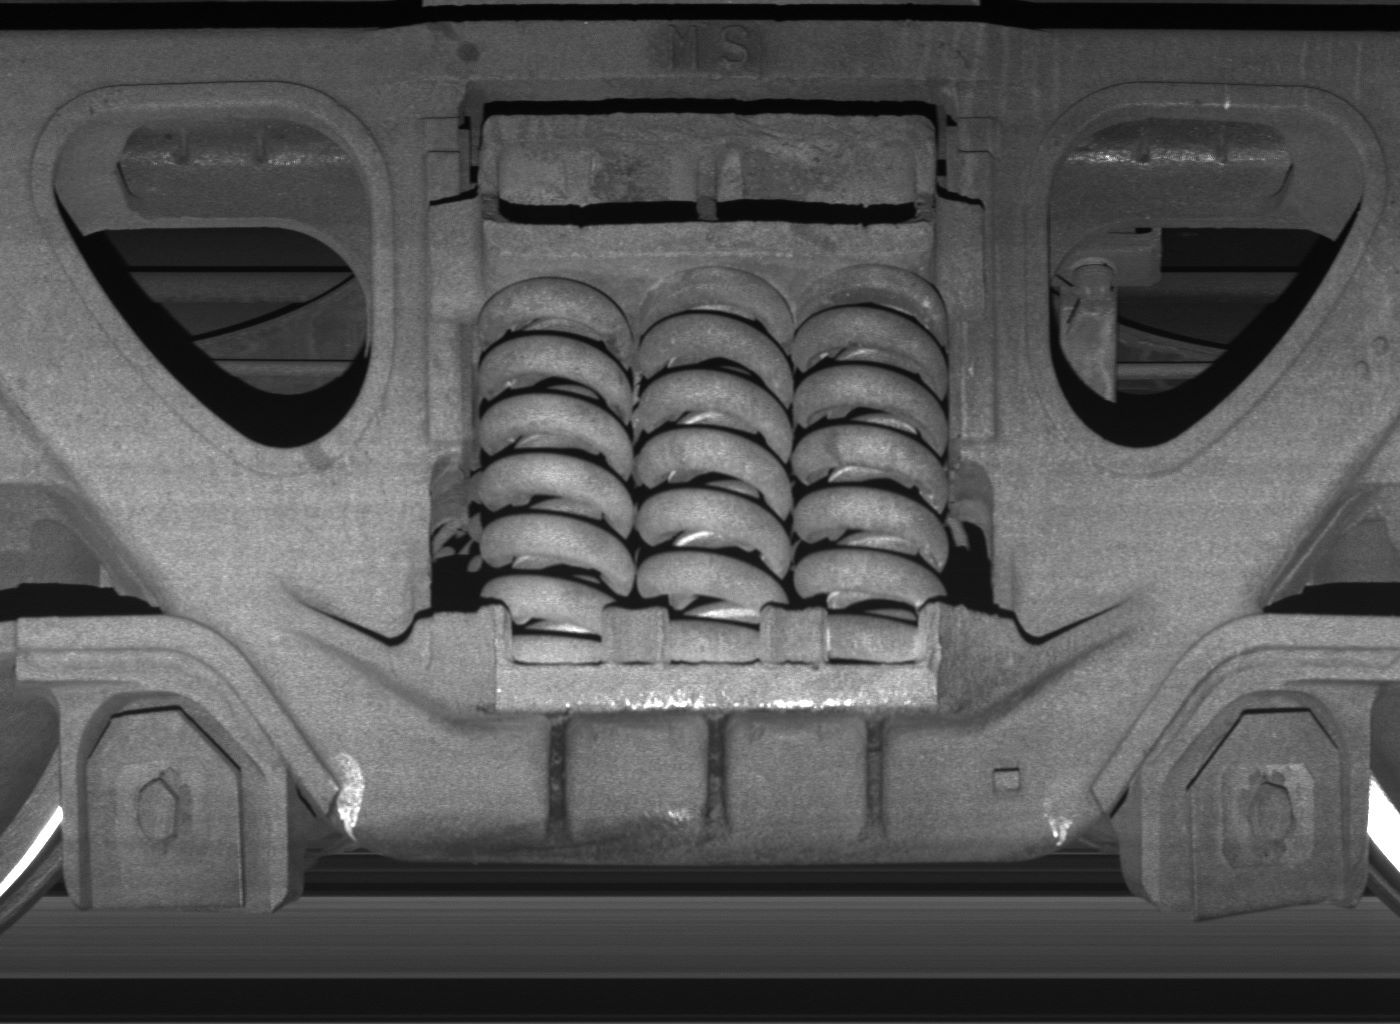locking plate: (1140, 692, 1368, 924)
normal: (60, 691, 288, 911)
